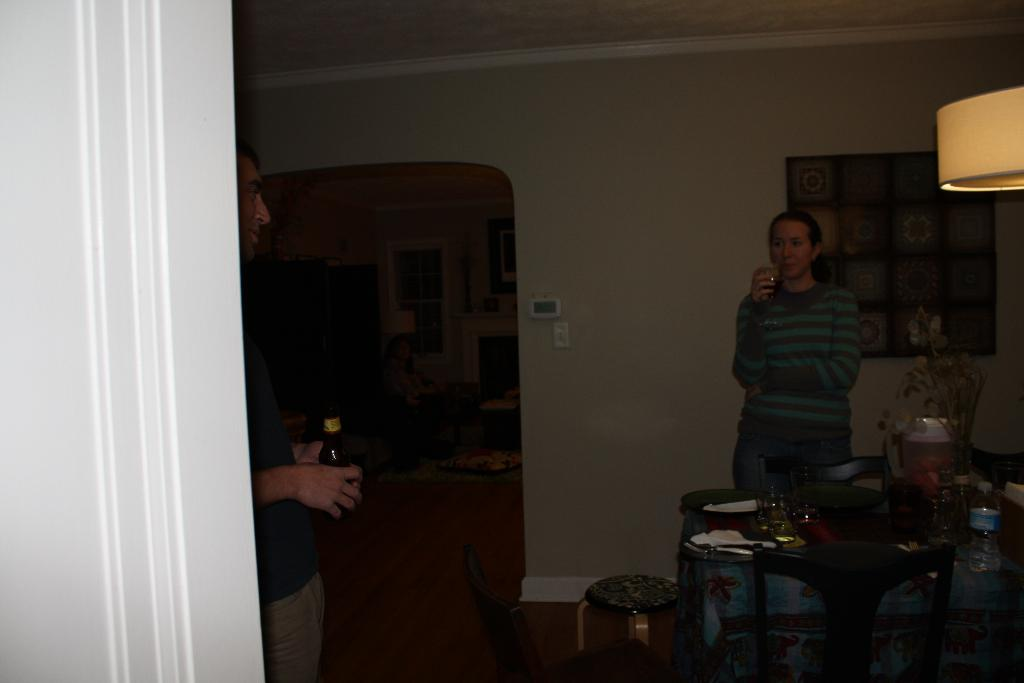Table: (667, 477, 980, 673)
